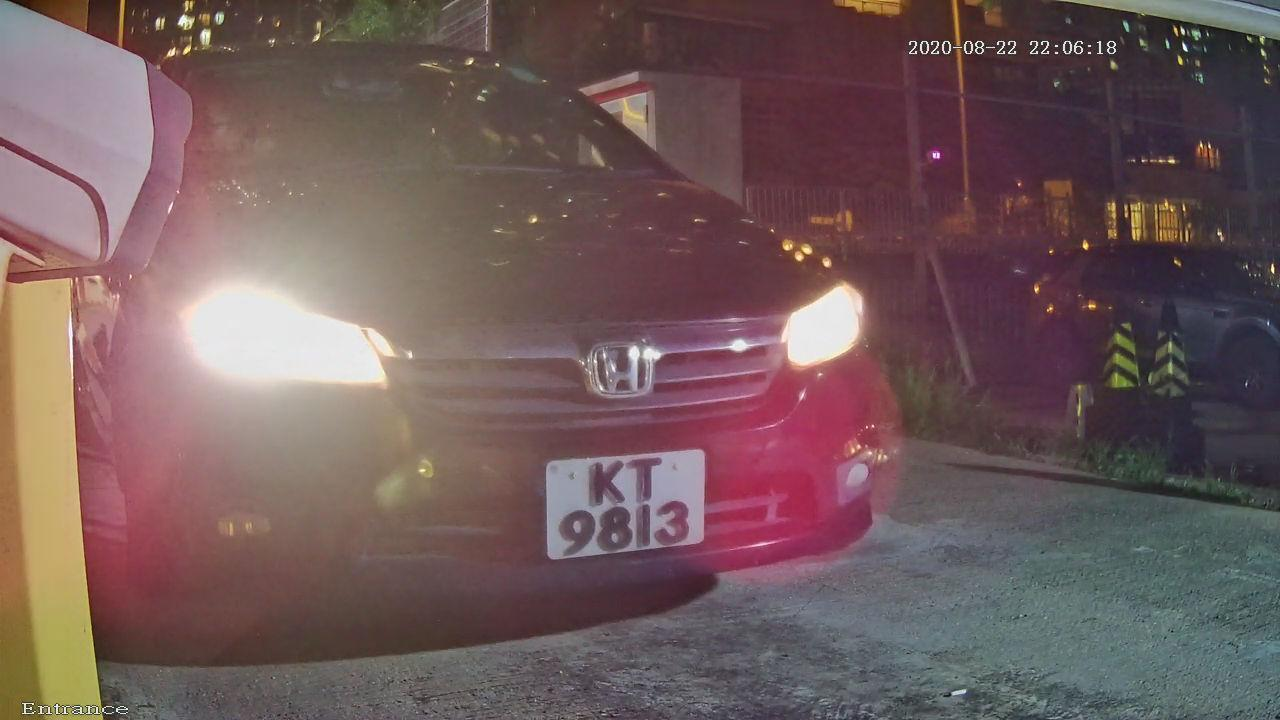Car: (6, 17, 978, 679)
License Plate: (515, 441, 726, 573)
